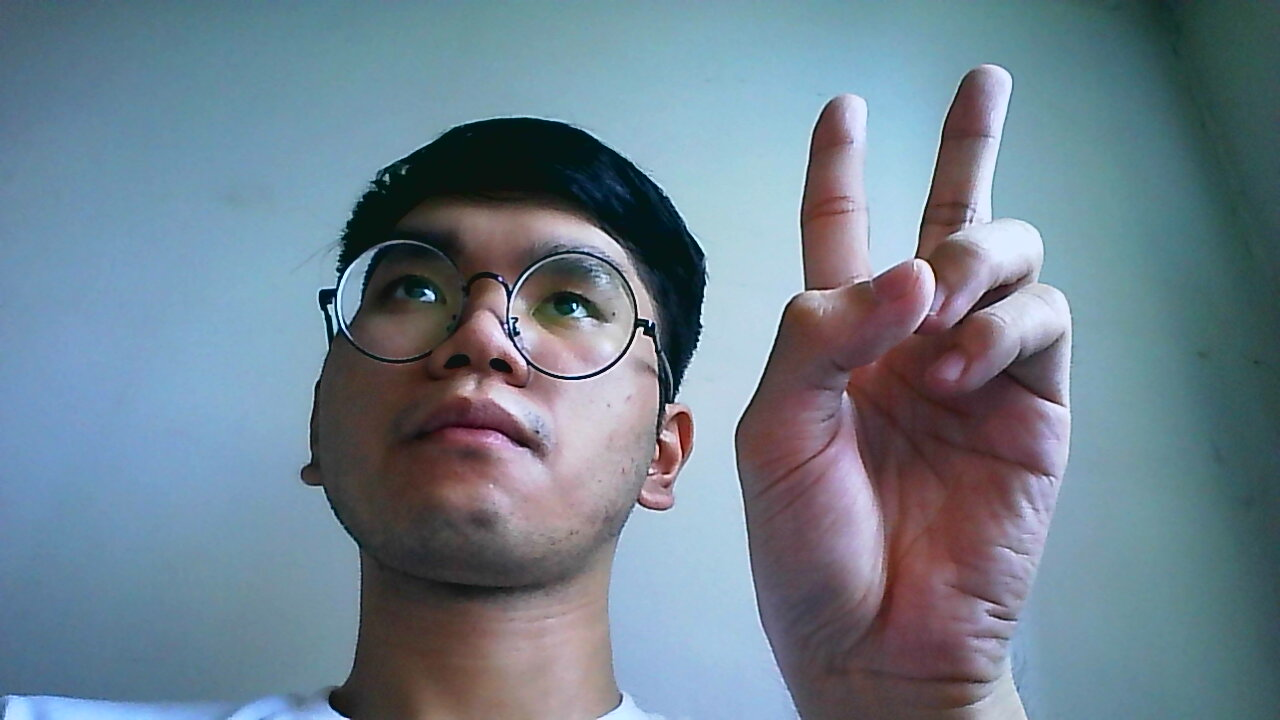peace: (734, 65, 1073, 676)
